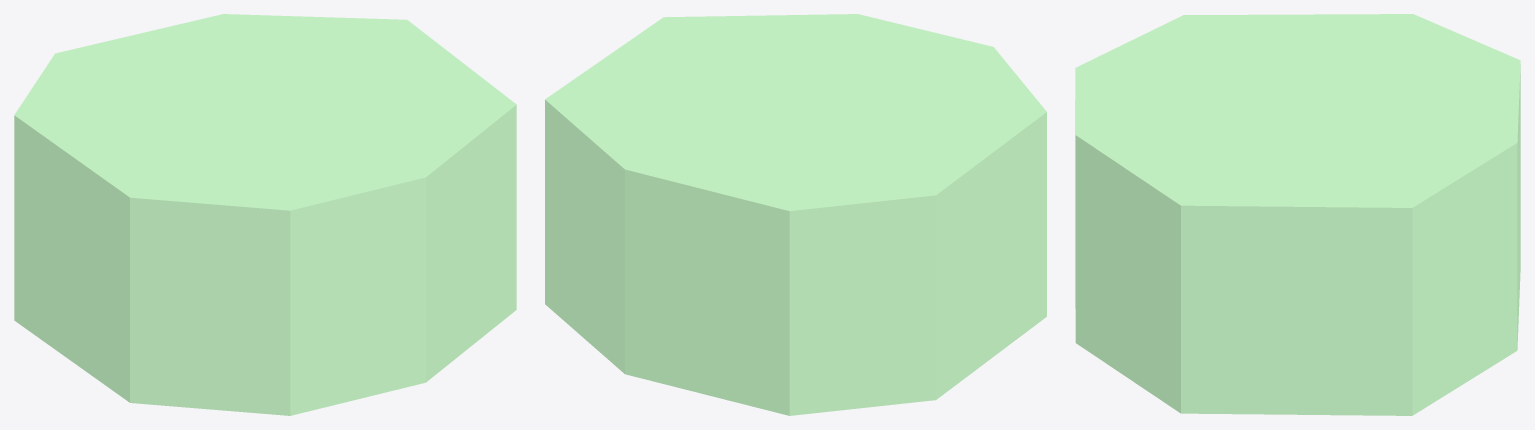
File: scene_five.gltf
3 renders of one model, left to right at view 1: azimuth 30°, elevation 25°; view 2: azimuth 150°, elevation 25°; view 3: azimuth 270°, elevation 25°, orthographic.
Bounding box in the file's own units: 2 × 1 × 1.94.
